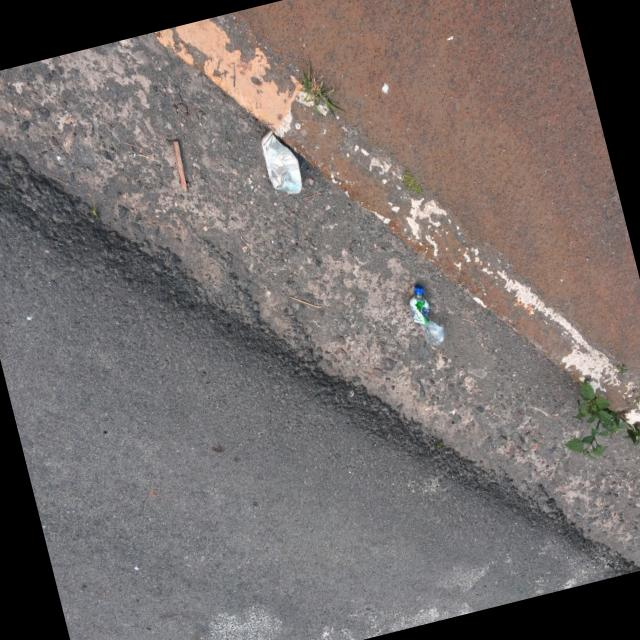less trash: (260, 130, 302, 194), (409, 285, 444, 346)
